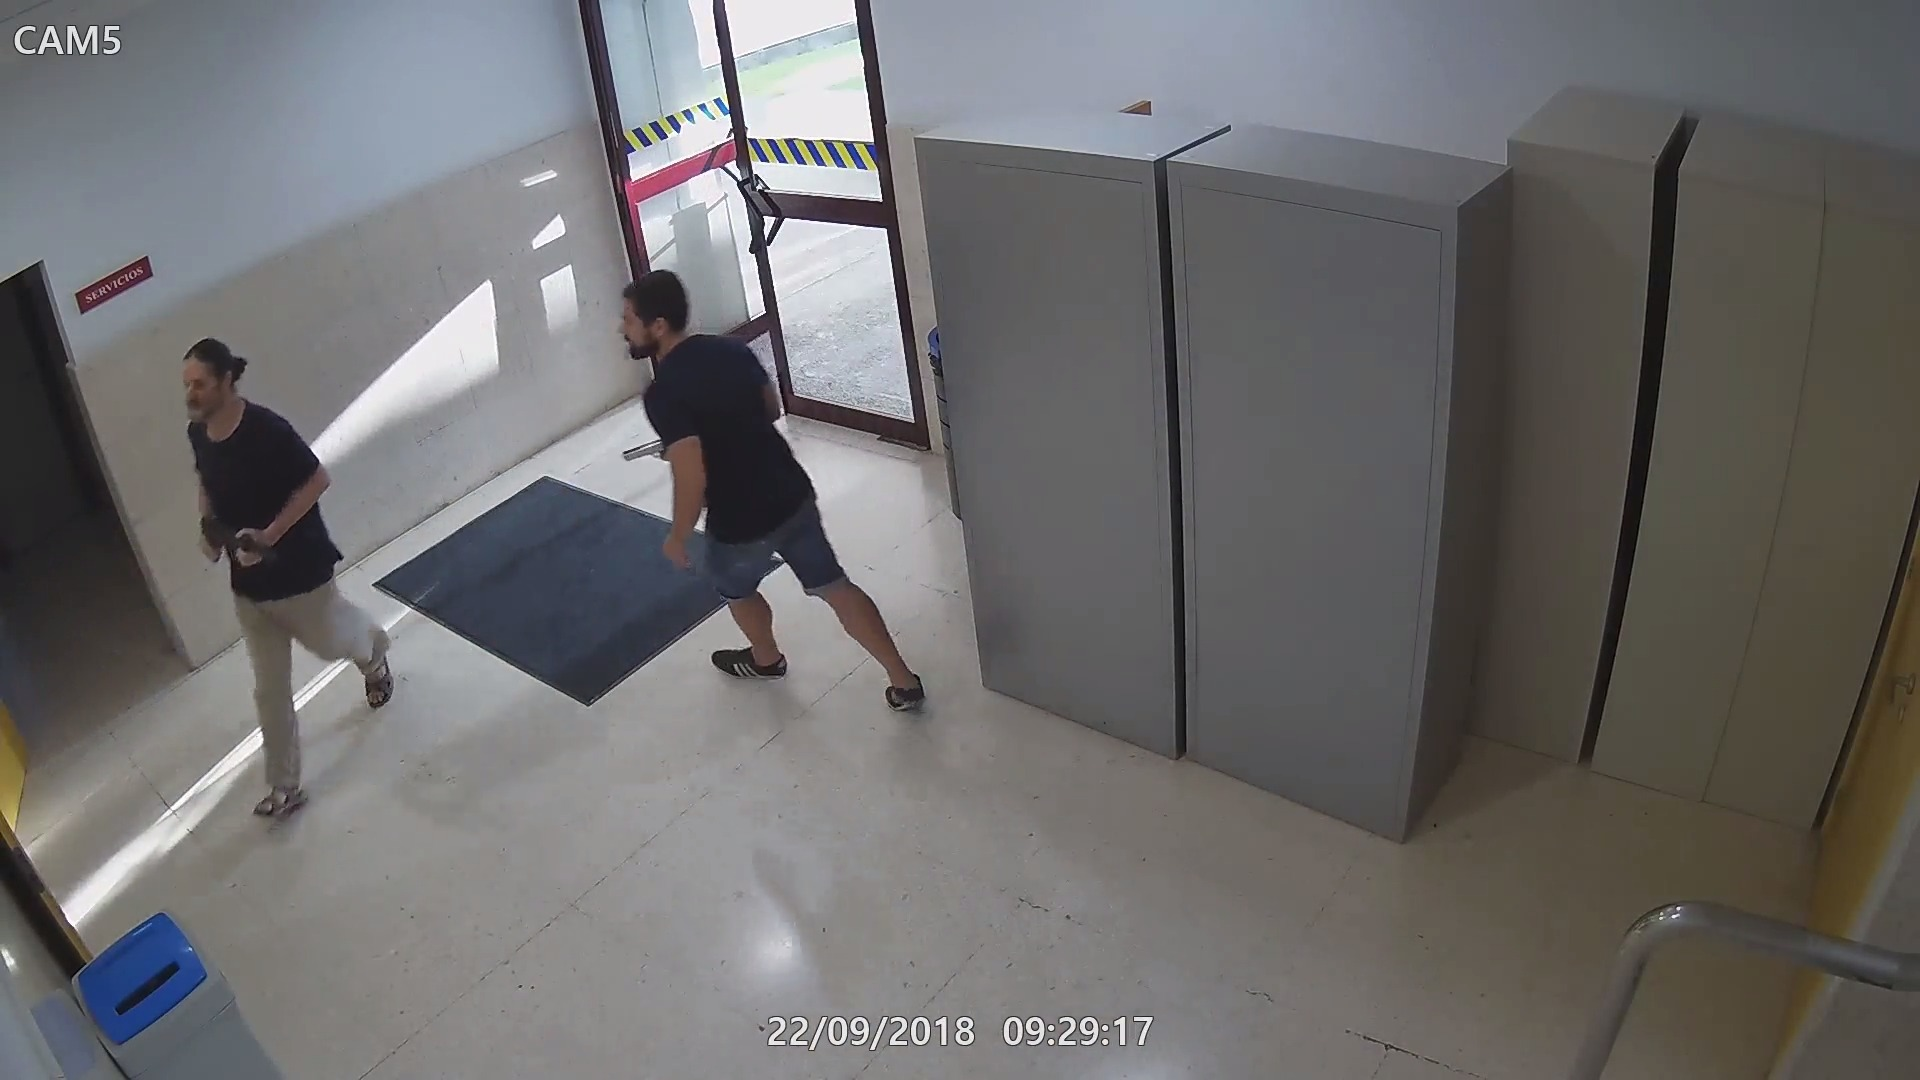Handgun: (615, 430, 676, 475)
Short_rifle: (189, 504, 281, 574)
